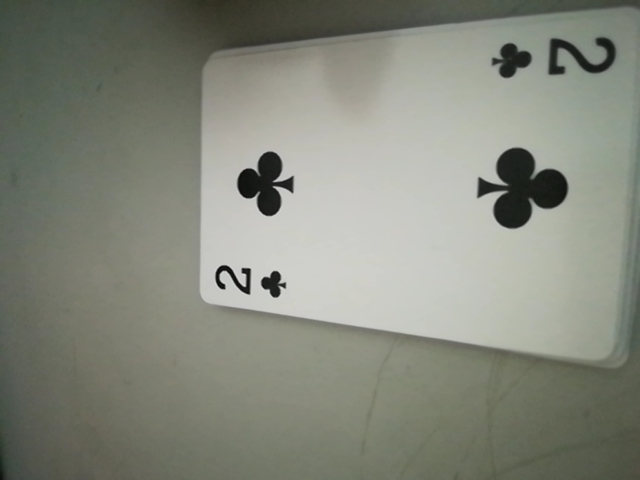mh 2: (490, 28, 620, 89), (209, 256, 294, 307)
